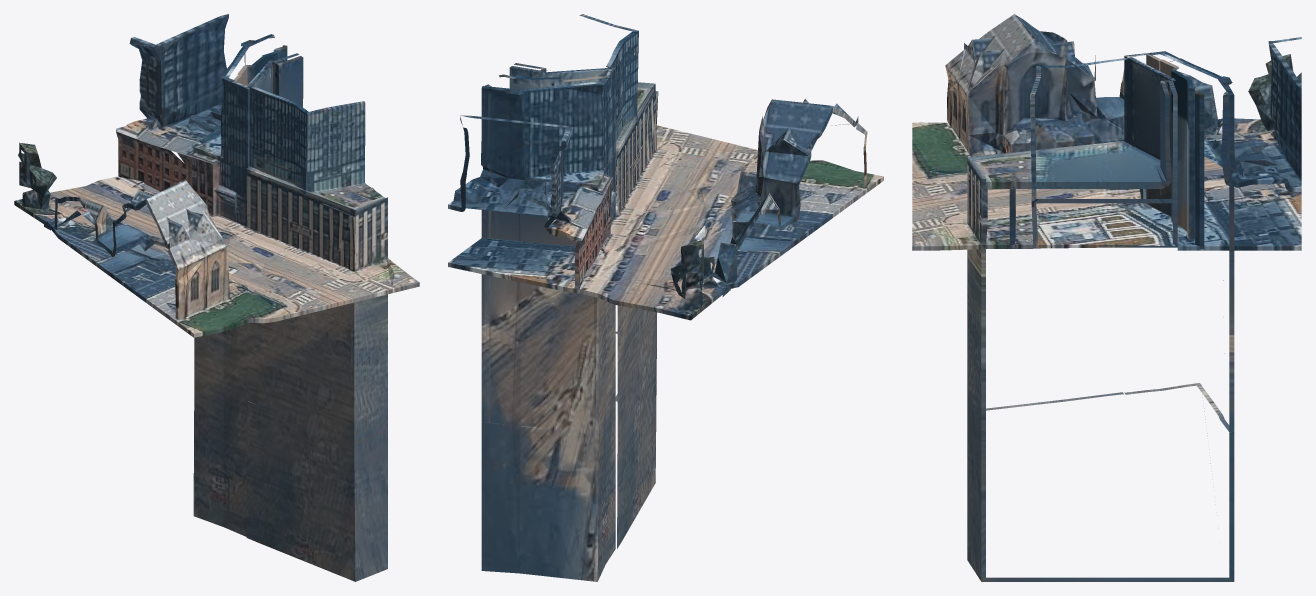
File: chunk_6_2.glb
3 views of the same model, side by side, from view 1: azimuth 30°, elevation 25°; view 2: azimuth 150°, elevation 25°; view 3: azimuth 270°, elevation 25° (orthographic). The views are drawn at different scales.
Visible parts, largest first — view 1: hero-chunk; view 2: hero-chunk; view 3: hero-chunk.
Boxes of the visible parts, x1=… form: hero-chunk: x1=14, y1=14, x2=419, y2=581; hero-chunk: x1=448, y1=14, x2=883, y2=581; hero-chunk: x1=912, y1=14, x2=1301, y2=581.
Size of the model in its own units: 55.73 by 105 by 76.32.
Materials: 2 (2 with a texture image).
